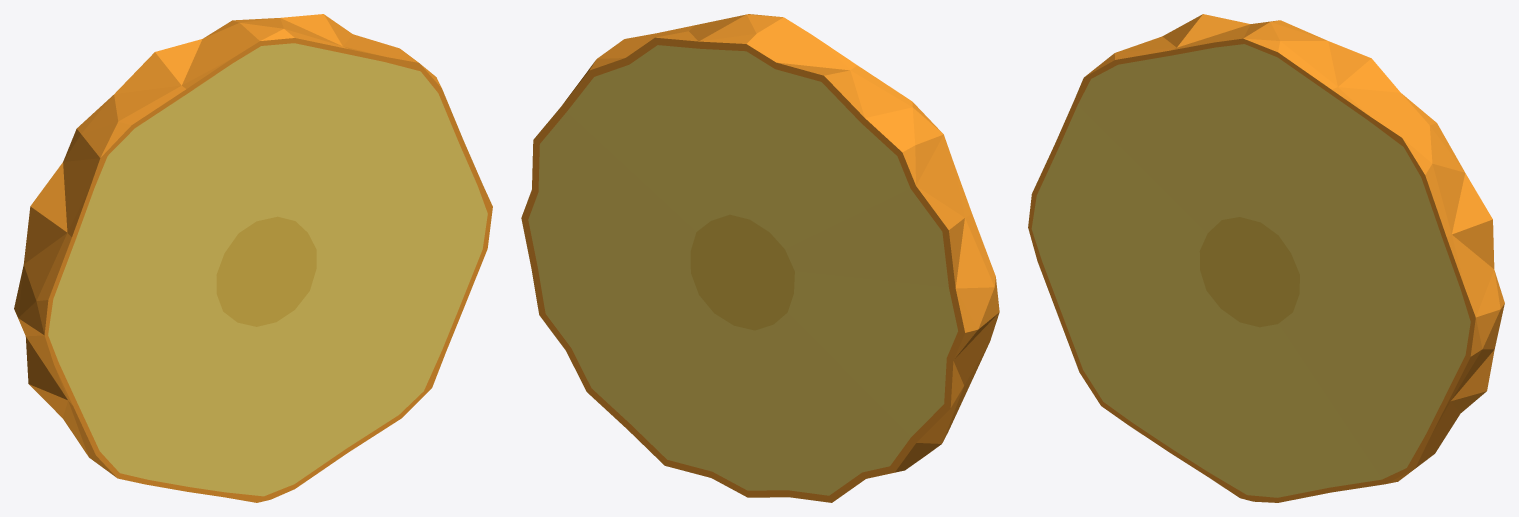
File: Pineapple_Slice_01.fbx
3 renders of one model, left to right at view 1: azimuth 30°, elevation 25°; view 2: azimuth 150°, elevation 25°; view 3: azimuth 330°, elevation 25°, orthographic.
Visible parts, largest first — view 1: Pineapple_Slice_01; view 2: Pineapple_Slice_01; view 3: Pineapple_Slice_01.
Part boxes in pixels (left/top/right/bottom): Pineapple_Slice_01: left=14, top=14, right=492, bottom=502; Pineapple_Slice_01: left=521, top=14, right=999, bottom=502; Pineapple_Slice_01: left=1028, top=14, right=1504, bottom=502.
Bounding box in the file's own units: 0.132 × 0.1288 × 0.0165.
